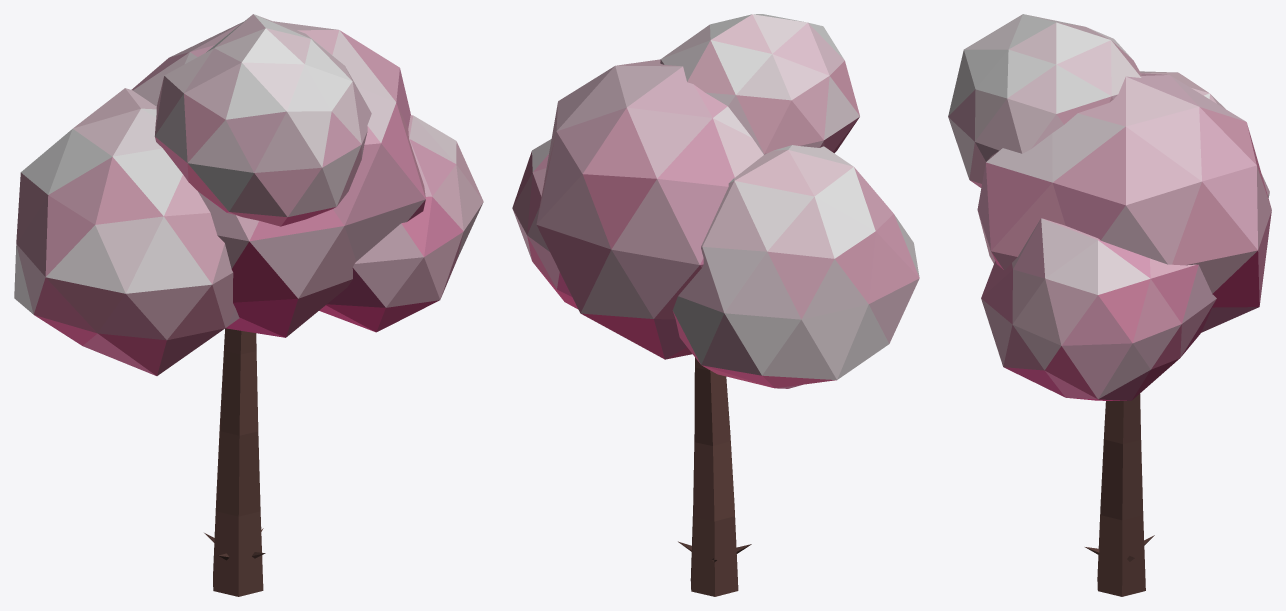
The model's file is Tree_Blossom_B.fbx.
The picture shows the model from 3 angles, left to right: view 1: azimuth 30°, elevation 25°; view 2: azimuth 150°, elevation 25°; view 3: azimuth 270°, elevation 25°; orthographic projection. The views are drawn at different scales.
Parts seen in each view (by area): view 1: Tree_Blossom_B; view 2: Tree_Blossom_B; view 3: Tree_Blossom_B.
Part boxes in pixels (x1,y1,x2,y2): Tree_Blossom_B: [14, 14, 483, 596]; Tree_Blossom_B: [512, 14, 919, 596]; Tree_Blossom_B: [948, 14, 1271, 596].
Size of the model in its own units: 3.35 by 4.45 by 2.33.
